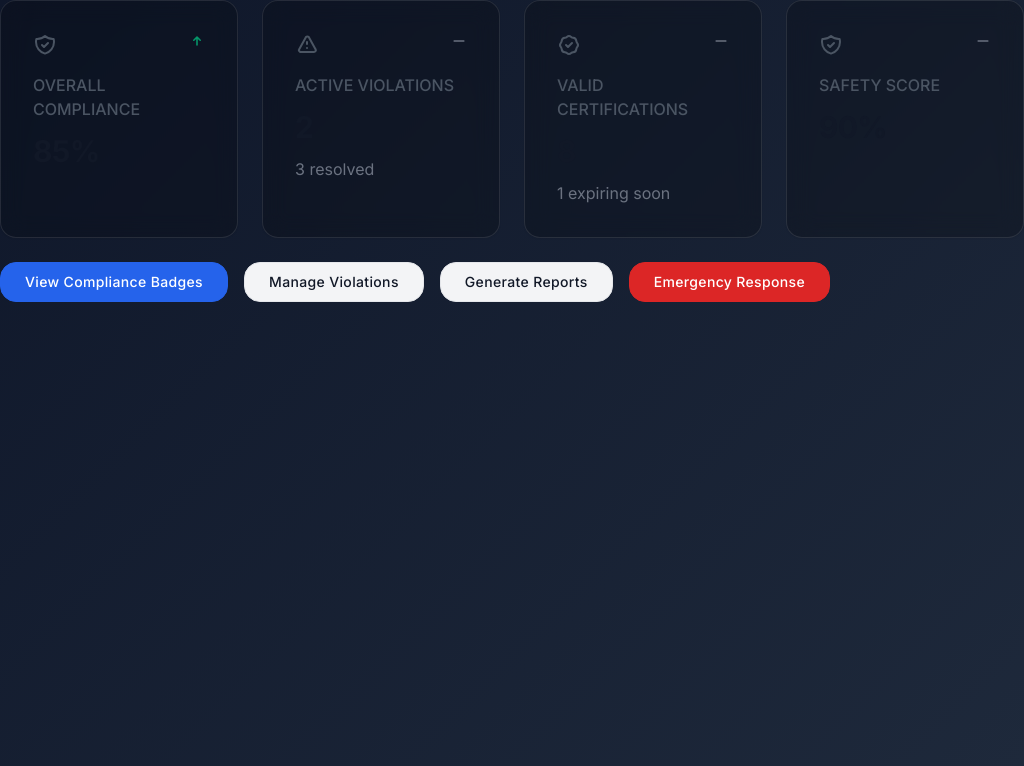
ComplianceDashboard › opens reports modal when button is clicked
The image size is (1024, 766).
Step 1. Click the button "Generate Reports" → coordinates (526, 282), box [440,262,613,302]
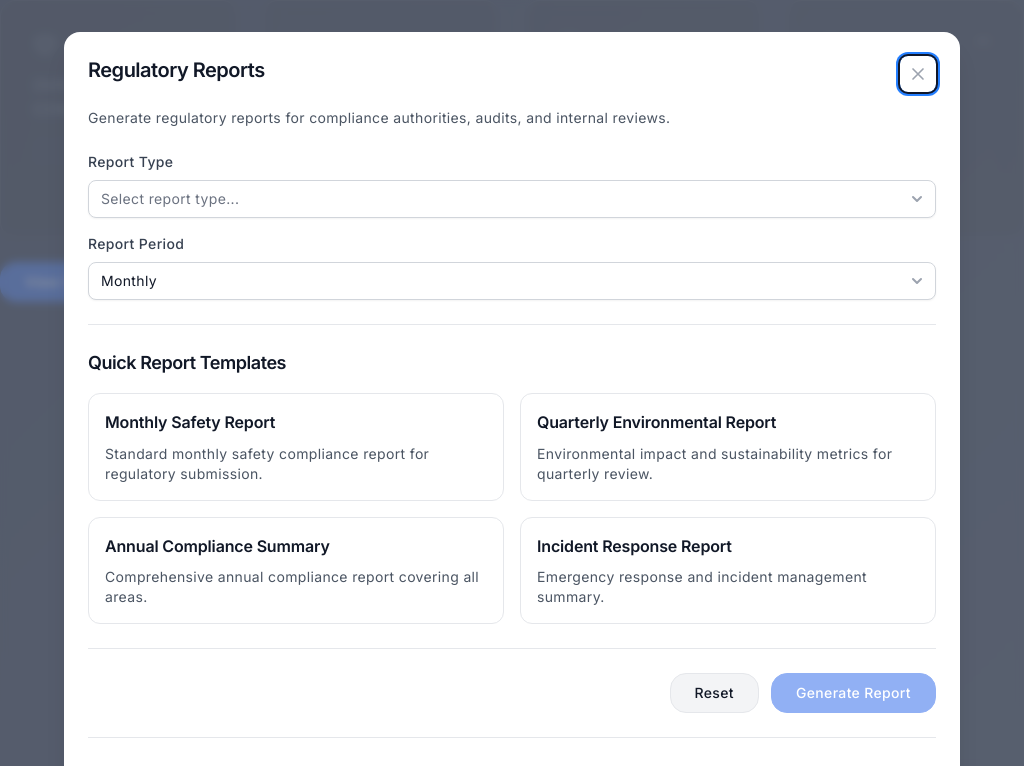
Check: the heading "Regulatory Reports" is shown, box [88,56,281,84]
